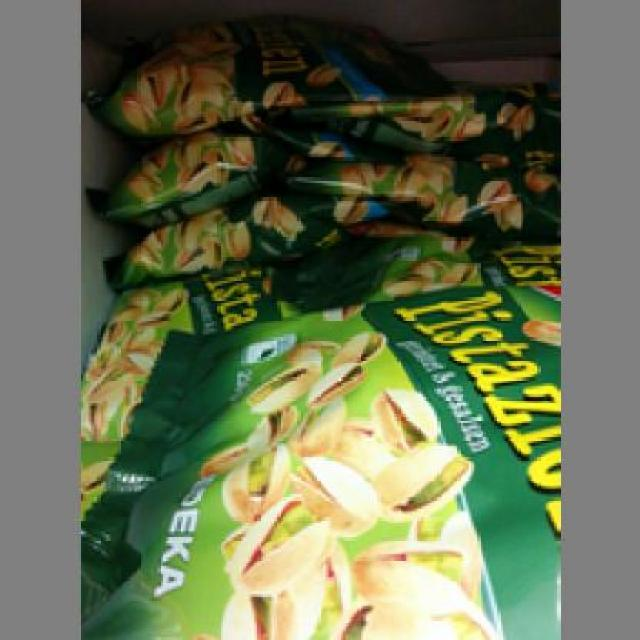Nuts: (80, 280, 557, 637), (82, 11, 448, 134)
